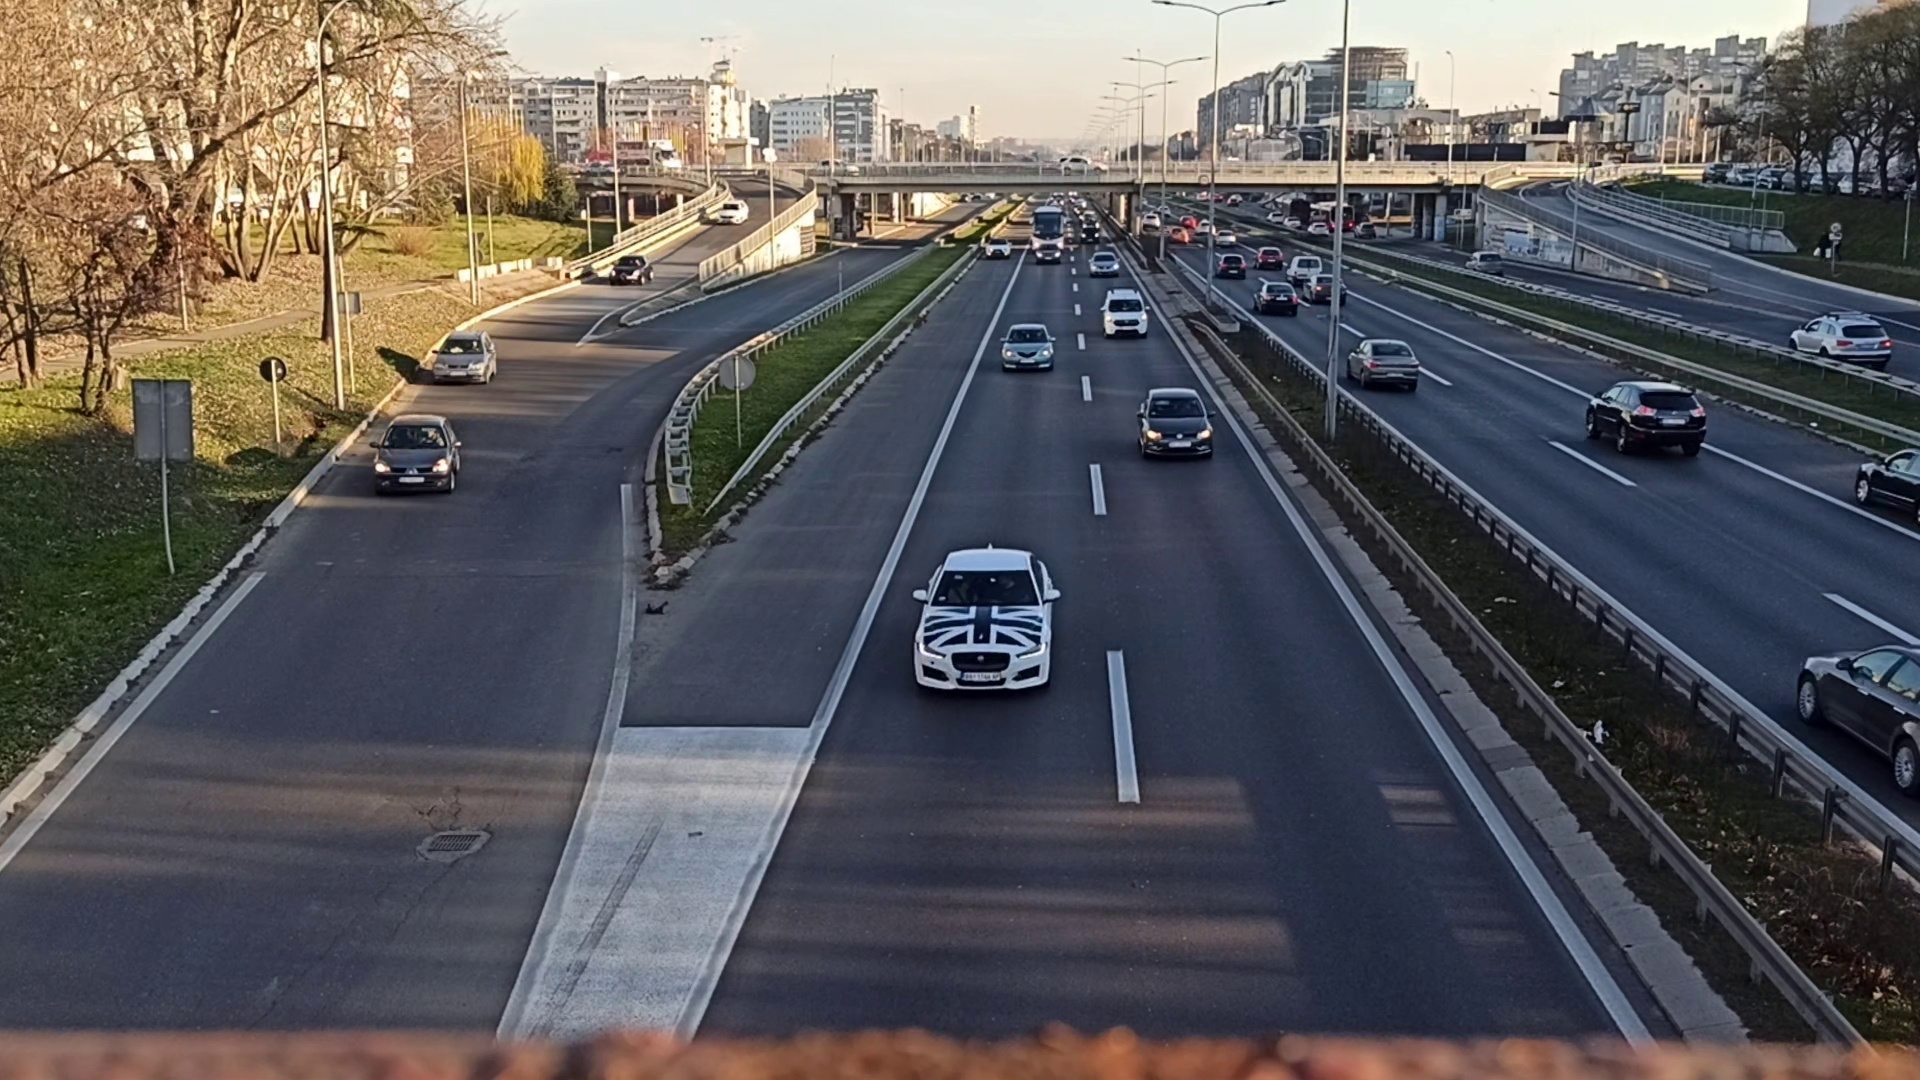bus: (1034, 206, 1063, 240)
car: (913, 545, 1054, 703), (1585, 381, 1705, 459), (372, 415, 463, 492), (1789, 311, 1895, 371), (1139, 386, 1212, 459), (1346, 338, 1418, 388), (435, 334, 497, 386), (1000, 324, 1056, 371), (1102, 289, 1147, 336), (1253, 282, 1296, 313), (611, 255, 650, 287), (1089, 253, 1120, 276), (1035, 244, 1060, 262)
